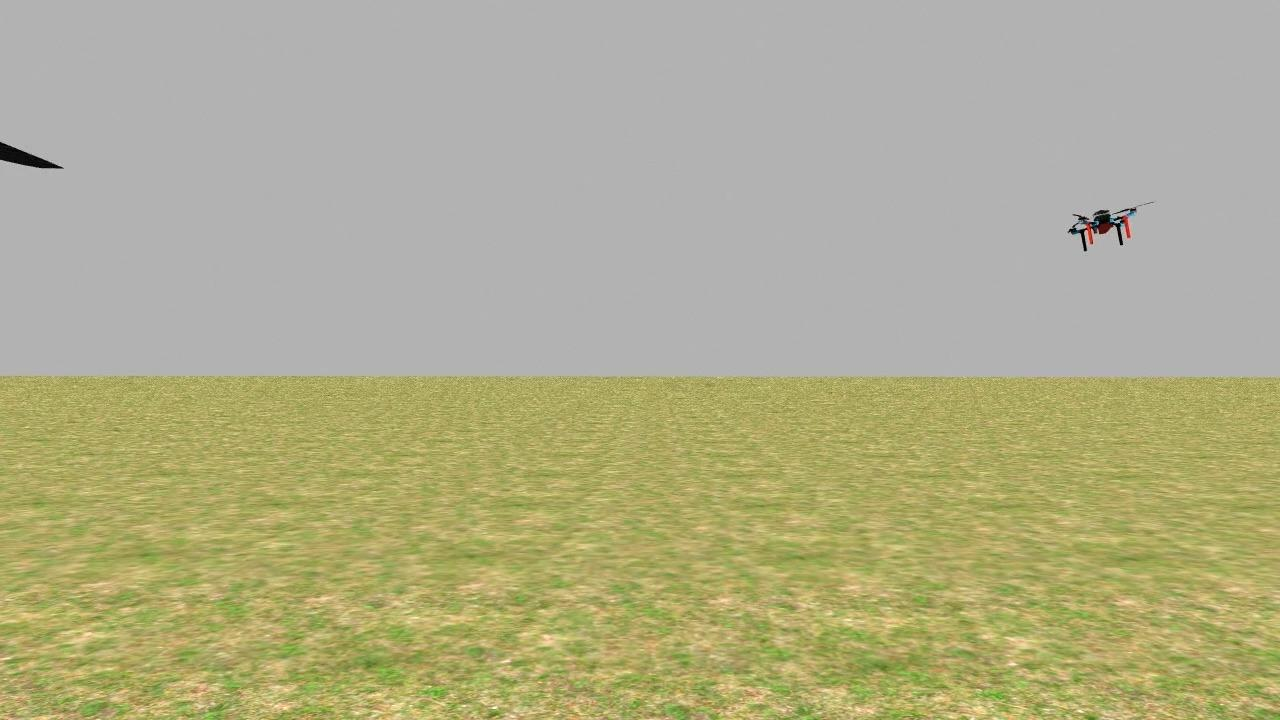UAV: (1063, 204, 1147, 254)
